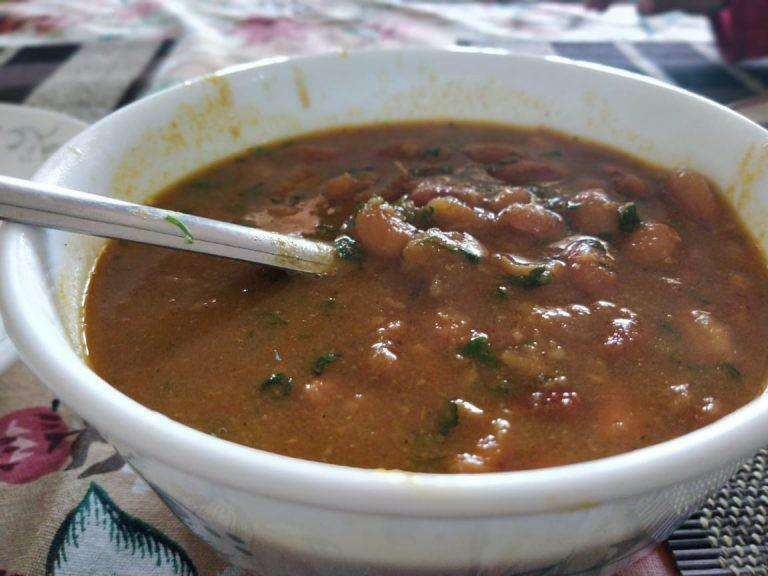RajmaCurry: (93, 126, 753, 469)
